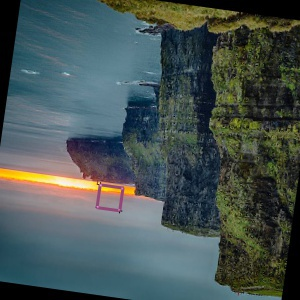square: (94, 181, 124, 215)
